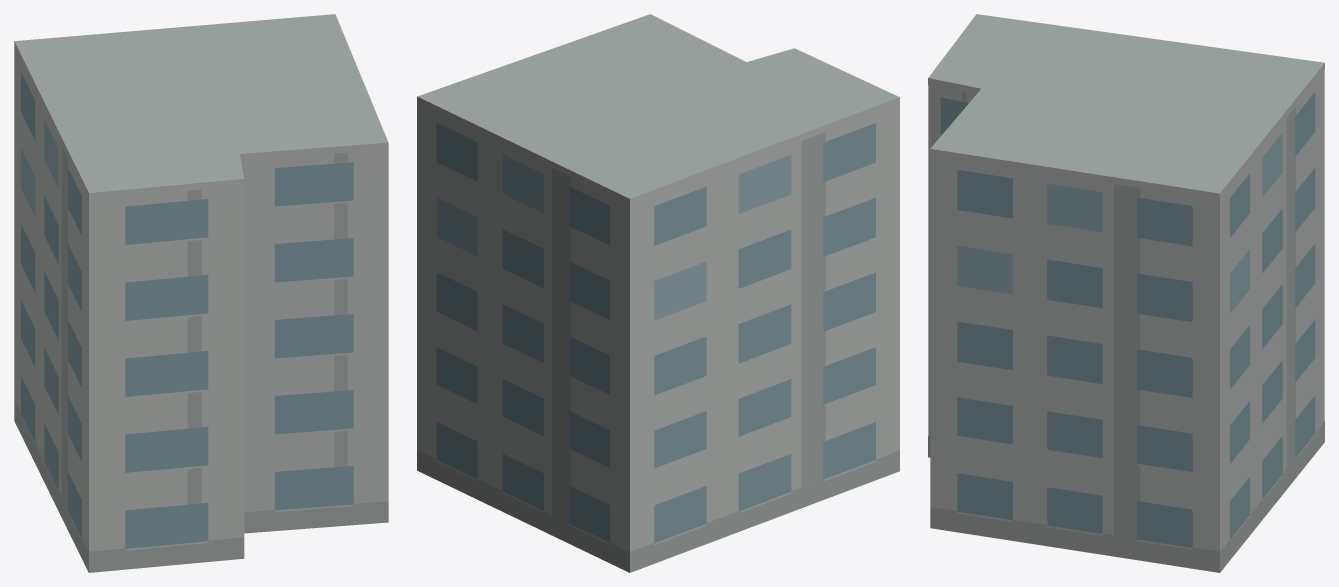
Rendered from survey-upis-32981185.glb.
3 renders of one model, left to right at view 1: azimuth 30°, elevation 25°; view 2: azimuth 150°, elevation 25°; view 3: azimuth 270°, elevation 25°, orthographic.
Parts seen in each view (by area): view 1: survey-upis-32981185.tmp; view 2: survey-upis-32981185.tmp; view 3: survey-upis-32981185.tmp.
Part boxes in pixels (x1,y1,x2,y2): survey-upis-32981185.tmp: (14, 14, 388, 572); survey-upis-32981185.tmp: (417, 14, 899, 572); survey-upis-32981185.tmp: (928, 14, 1324, 572).
Size of the model in its own units: 13.61 by 13.4 by 12.71.
